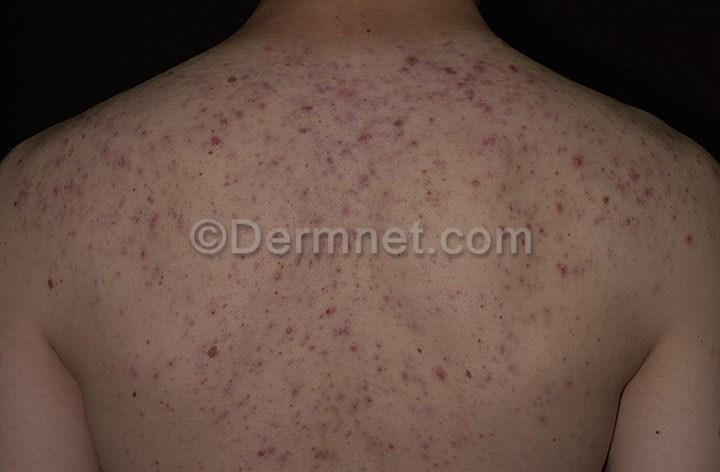Acne: (549, 134, 712, 264), (382, 49, 527, 113), (254, 301, 375, 355), (42, 165, 104, 203), (194, 117, 230, 154), (195, 336, 230, 364)
